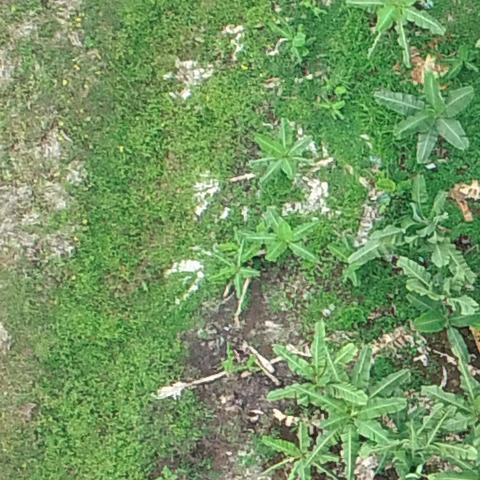Banana-plant: (296, 340, 411, 480), (352, 388, 480, 480), (346, 169, 455, 277), (369, 68, 476, 167), (262, 316, 367, 415), (399, 237, 480, 338), (345, 0, 449, 70), (244, 119, 319, 189), (259, 417, 338, 480), (241, 208, 320, 264), (204, 240, 262, 302), (325, 225, 374, 295), (261, 13, 315, 66), (310, 83, 348, 127)
